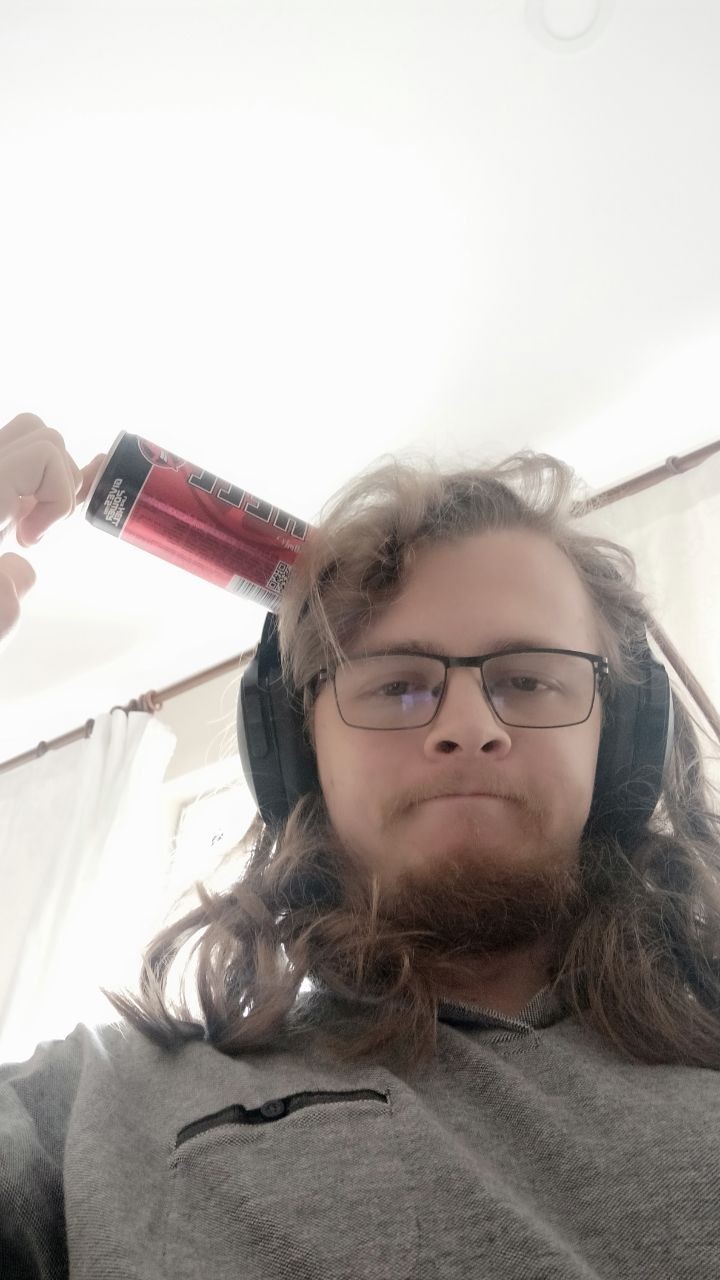Can: (83, 425, 305, 601)
